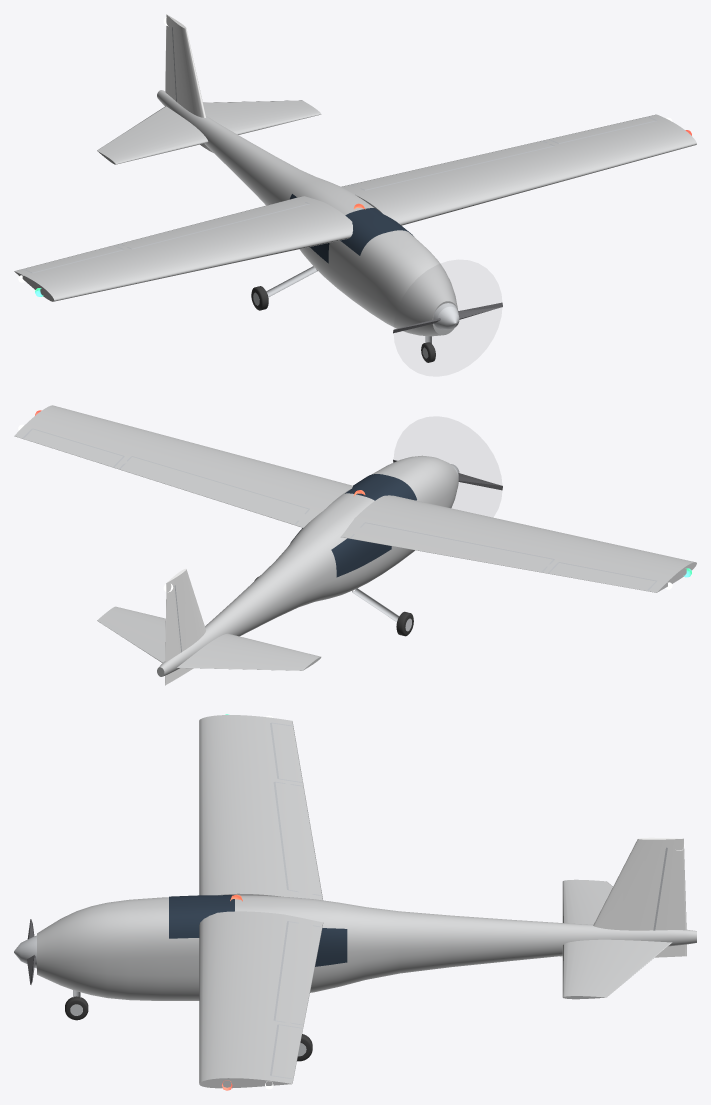
3 renders of one model, top to bottom at view 1: azimuth 30°, elevation 25°; view 2: azimuth 150°, elevation 25°; view 3: azimuth 270°, elevation 25°, orthographic. The views are drawn at different scales.
Parts seen in each view (by area): view 1: airframe, gear; view 2: airframe, gear; view 3: airframe, gear.
Part boxes in pixels (<box>): airframe: <box>14,14,696,336</box>; gear: <box>251,266,435,362</box>; airframe: <box>14,405,696,685</box>; gear: <box>254,576,413,636</box>; airframe: <box>14,714,696,1090</box>; gear: <box>65,990,312,1061</box>.
Bounding box in the file's own units: 11.42 × 2.59 × 8.9.
